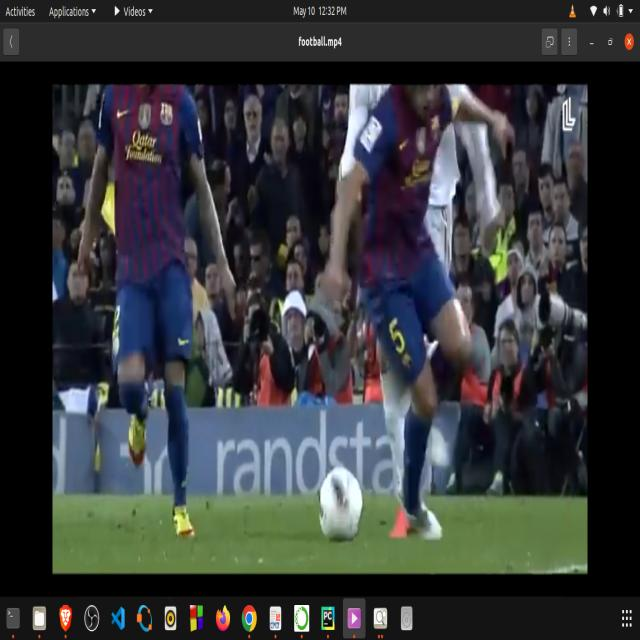ball: (313, 442, 367, 560)
